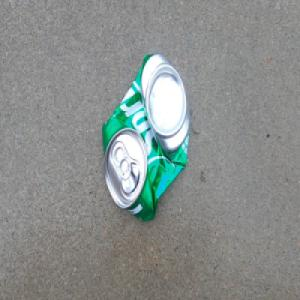SodaCan: (100, 51, 192, 224)
